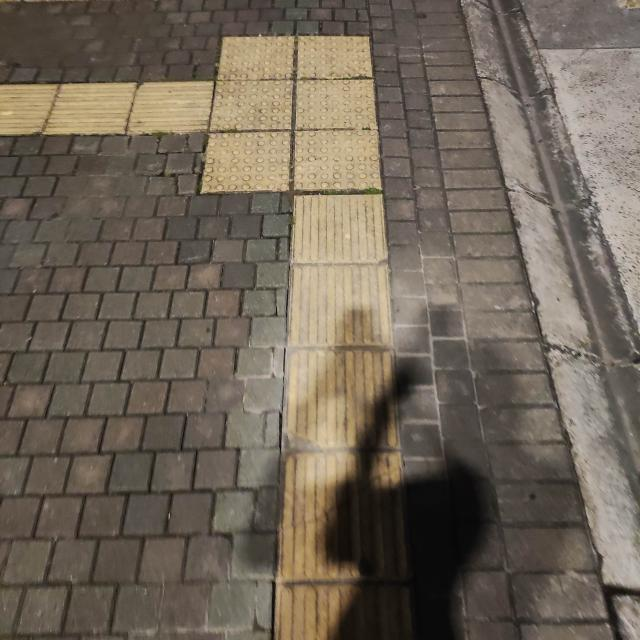kiri: (98, 44, 444, 256)
